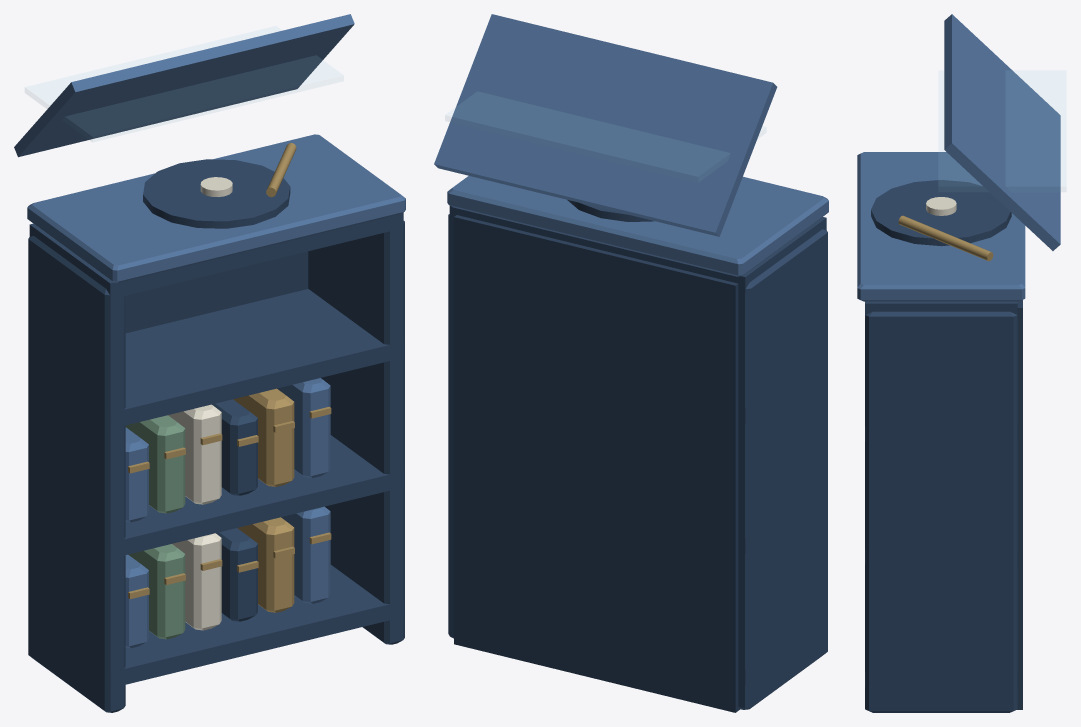
File: v18_record_cabinet.glb
3 renders of one model, left to right at view 1: azimuth 30°, elevation 25°; view 2: azimuth 150°, elevation 25°; view 3: azimuth 270°, elevation 25°, orthographic. The views are drawn at different scales.
Parts seen in each view (by area): view 1: _MeshInstance3D_2073, _MeshInstance3D_2074, _MeshInstance3D_2116, _MeshInstance3D_2078, _MeshInstance3D_2120, _MeshInstance3D_2076, _MeshInstance3D_2077, _MeshInstance3D_2117, _MeshInstance3D_2075, _MeshInstance3D_2079, _MeshInstance3D_2110, _MeshInstance3D_2101 (+11 smaller); view 2: _MeshInstance3D_2075, _MeshInstance3D_2120, _MeshInstance3D_2073, _MeshInstance3D_2116, _MeshInstance3D_2079, _MeshInstance3D_2074, _MeshInstance3D_2117; view 3: _MeshInstance3D_2074, _MeshInstance3D_2120, _MeshInstance3D_2116, _MeshInstance3D_2117, _MeshInstance3D_2075, _MeshInstance3D_2079, _MeshInstance3D_2119, _MeshInstance3D_2118.
Boxes of the visible parts, <box> form: _MeshInstance3D_2073: <box>28,236,125,712</box>; _MeshInstance3D_2074: <box>308,221,404,644</box>; _MeshInstance3D_2116: <box>27,134,405,282</box>; _MeshInstance3D_2078: <box>110,289,403,428</box>; _MeshInstance3D_2120: <box>14,14,354,157</box>; _MeshInstance3D_2076: <box>110,565,403,688</box>; _MeshInstance3D_2077: <box>110,435,403,558</box>; _MeshInstance3D_2117: <box>143,159,290,228</box>; _MeshInstance3D_2075: <box>125,251,308,333</box>; _MeshInstance3D_2079: <box>29,212,403,299</box>; _MeshInstance3D_2110: <box>233,388,294,486</box>; _MeshInstance3D_2101: <box>125,415,185,513</box>; _MeshInstance3D_2075: <box>454,215,740,712</box>; _MeshInstance3D_2120: <box>434,14,777,236</box>; _MeshInstance3D_2073: <box>738,229,827,709</box>; _MeshInstance3D_2116: <box>447,176,828,276</box>; _MeshInstance3D_2079: <box>449,206,826,293</box>; _MeshInstance3D_2074: <box>448,214,453,638</box>; _MeshInstance3D_2117: <box>567,200,654,221</box>; _MeshInstance3D_2074: <box>865,311,1017,712</box>; _MeshInstance3D_2120: <box>944,14,1060,250</box>; _MeshInstance3D_2116: <box>857,152,1025,301</box>; _MeshInstance3D_2117: <box>871,180,1011,246</box>; _MeshInstance3D_2075: <box>1017,300,1022,709</box>; _MeshInstance3D_2079: <box>865,301,1017,318</box>; _MeshInstance3D_2119: <box>898,215,993,261</box>; _MeshInstance3D_2118: <box>926,197,956,215</box>.
Bounding box in the file's own units: 0.8936 × 1.7 × 0.5694.
